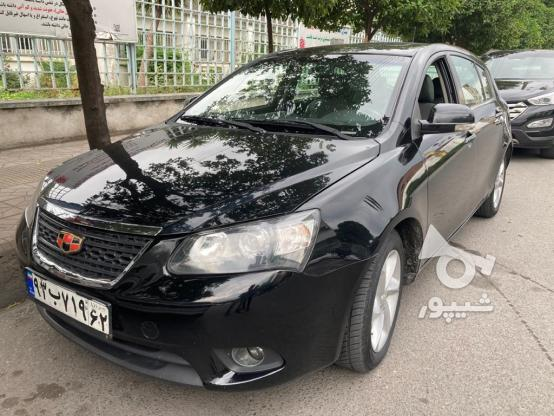car: (22, 267, 110, 336)
